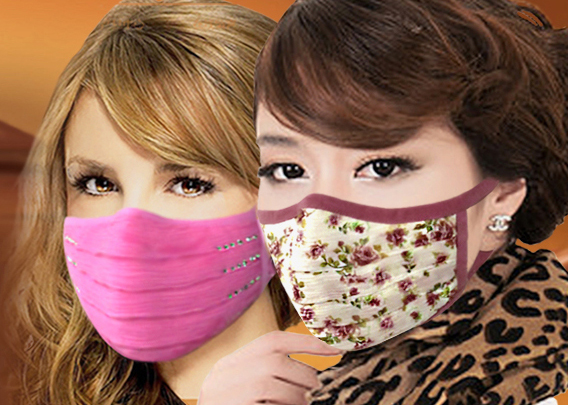face_mask: (254, 70, 475, 351), (62, 88, 266, 356)
